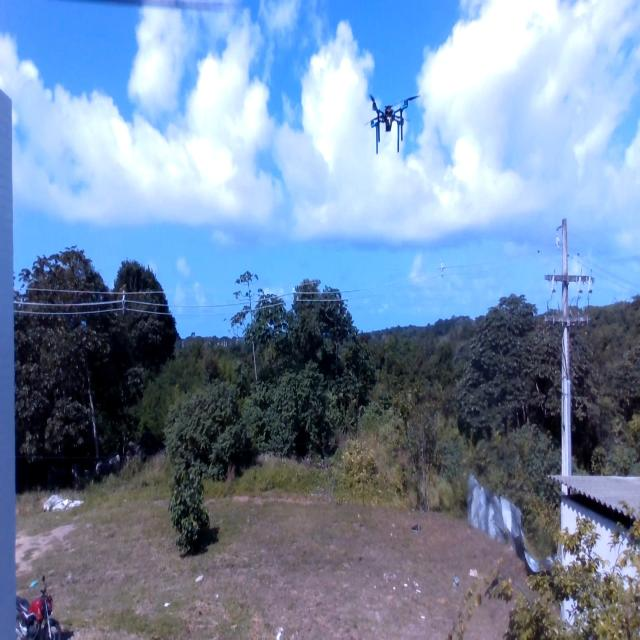-uav-: (358, 84, 422, 164)
